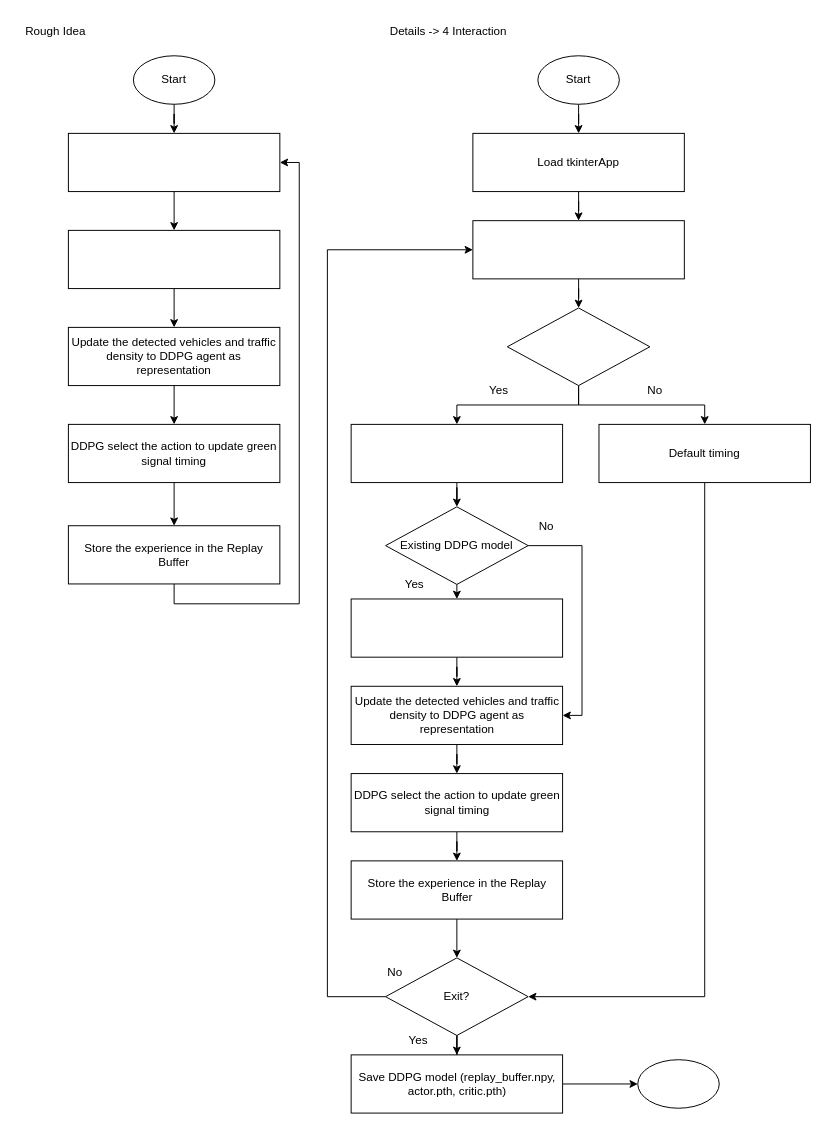
This 827x1130 diagram has some shape labels left out. Here are the shapes that lost their labels. From the top down, the centre of each, then its label:
At (173,162): "CCTV - real time capture / Input video".
At (173,259): "Yolov8 detecting the vehicles and the traffic density".
At (578,249): "CCTV - real time capture / Input video (Threading)".
At (578,346): "Input? CCTV / videos".
At (456,453): "Yolov8 detecting vehicles and traffic density".
At (456,627): "Load DDPG model (replay_buffer.npy, actor.pth, critic.pth)".
At (678,1083): "End".
